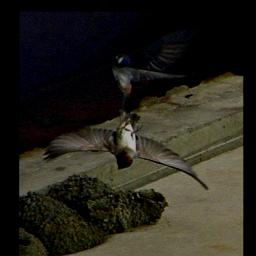Swallow: (39, 106, 212, 192)
